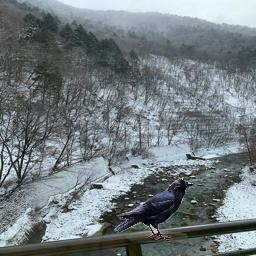Crow: (114, 179, 194, 242)
